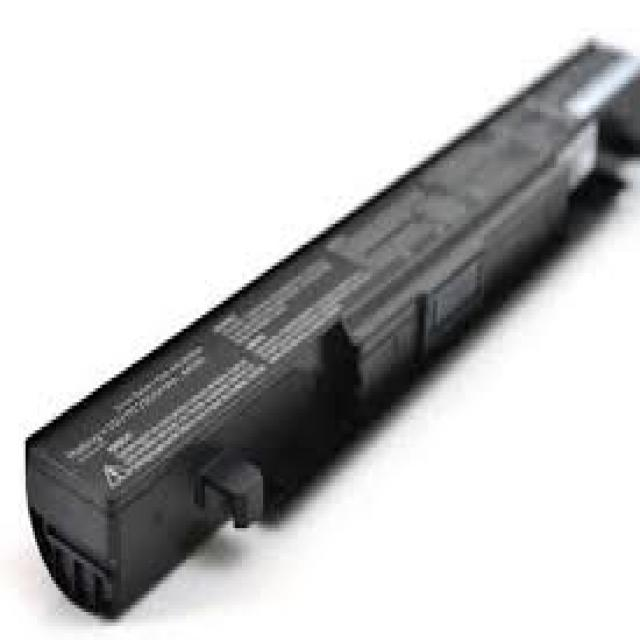non-organic waste: (21, 38, 640, 620)
